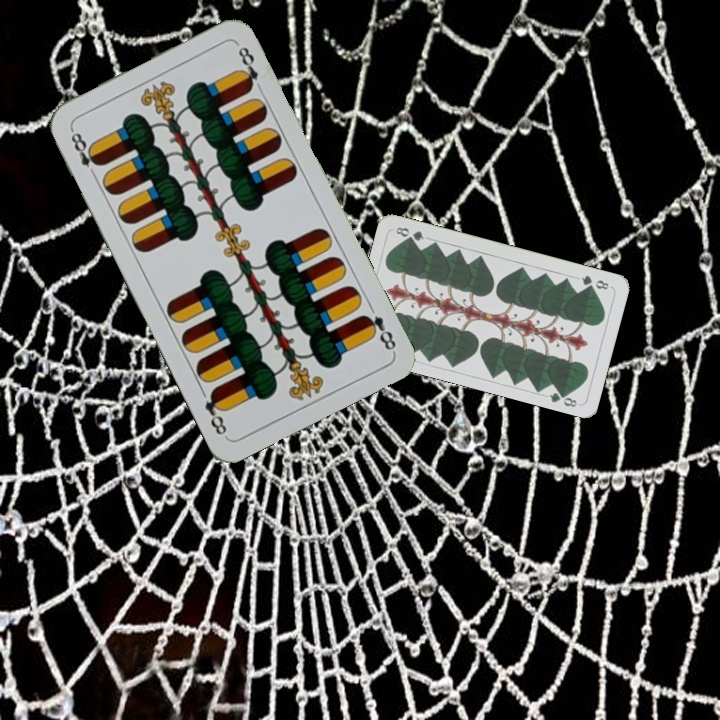E8: (66, 125, 104, 180), (358, 310, 399, 354)
G8: (577, 271, 612, 292)
